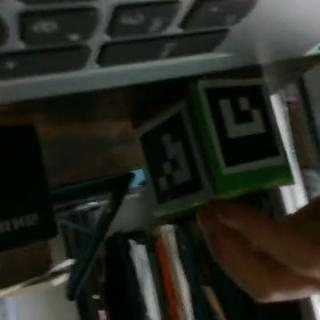armor: (138, 103, 214, 215), (198, 82, 276, 174)
robot: (137, 72, 290, 216)
